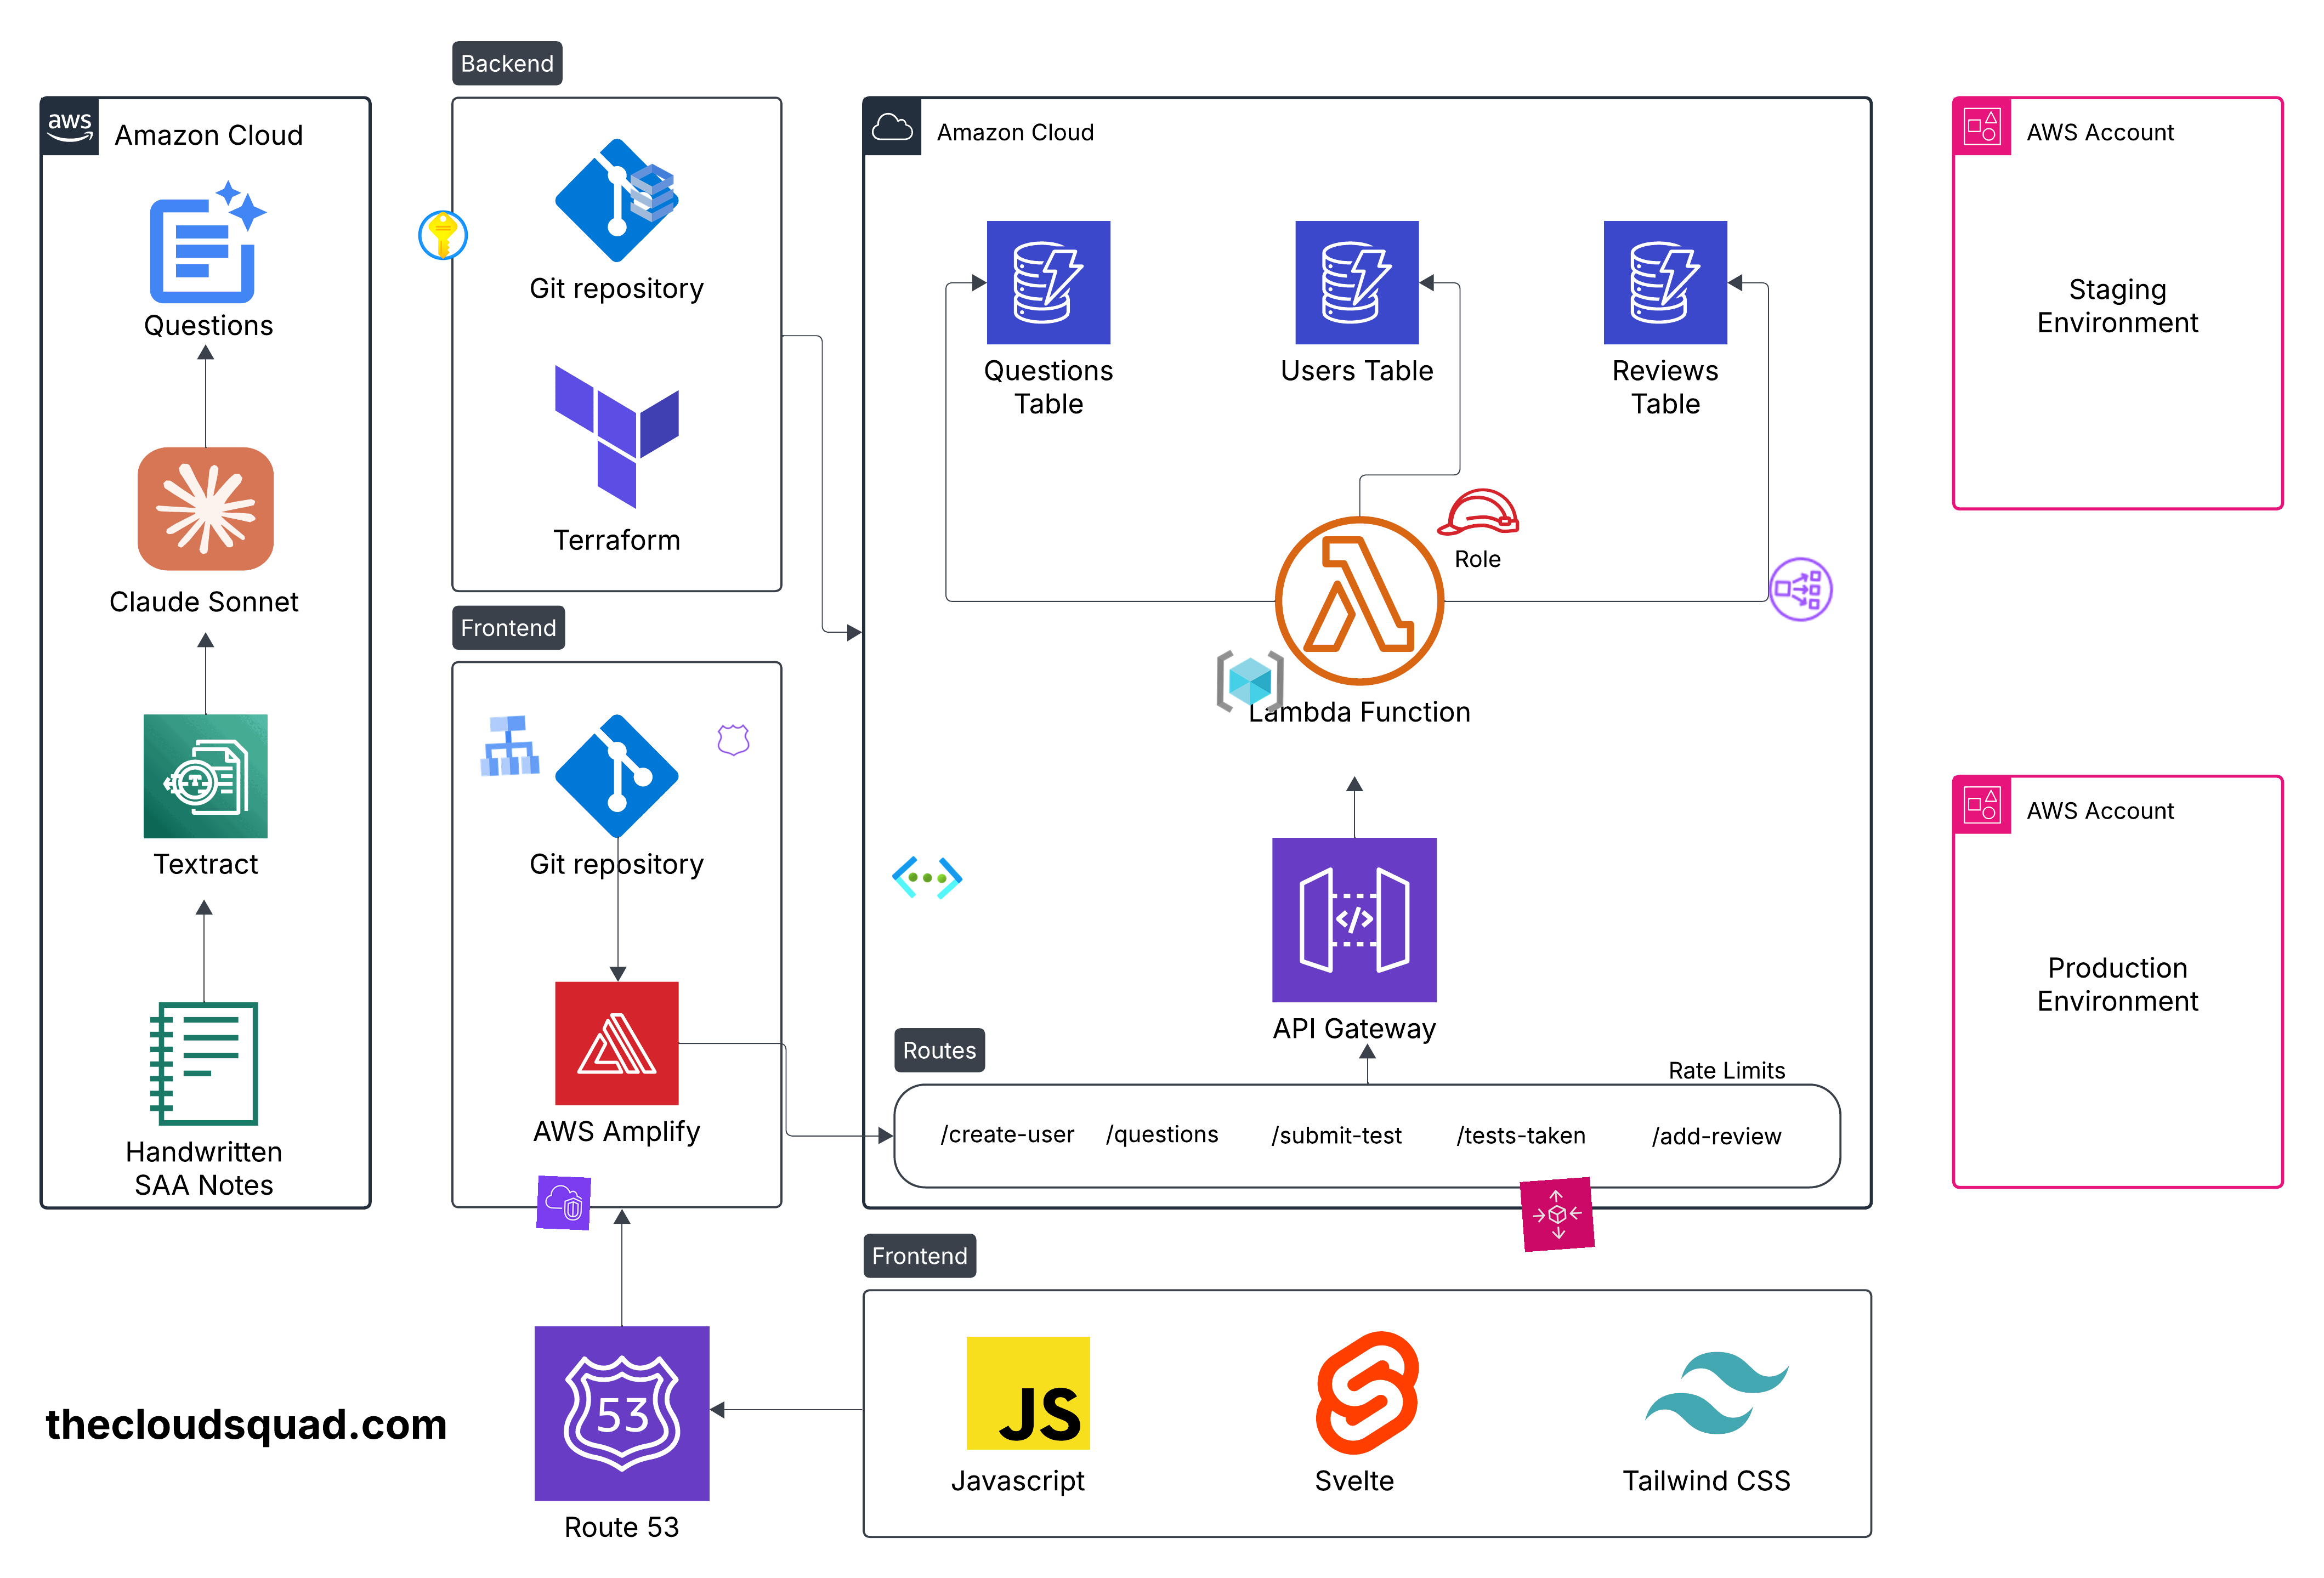aws_amazon_virtual_private_cloud: (537, 1175, 592, 1231)
aws_auto_scaling: (1519, 1176, 1595, 1252)
aws_elastic_load_balancing_network_load_balancer: (1764, 553, 1838, 627)
aws_route_53_hosted_zone: (715, 722, 752, 759)
azure_key_vaults: (416, 208, 470, 262)
azure_resource_groups: (1215, 646, 1285, 717)
azure_virtual_networks: (891, 840, 965, 916)
gcp_cloud_load_balancing: (472, 708, 546, 784)
gcp_cloud_sql: (616, 157, 688, 229)
